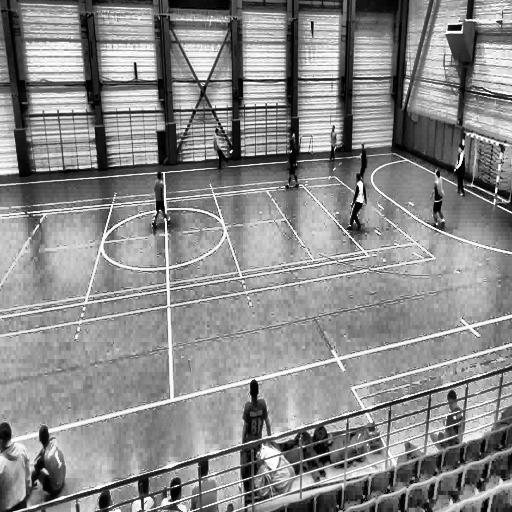ball: (228, 146, 234, 158)
player: (241, 378, 272, 462), (345, 171, 365, 232), (153, 169, 169, 228), (431, 170, 445, 230), (285, 129, 299, 188), (454, 142, 467, 196), (356, 138, 369, 179), (214, 128, 225, 170), (329, 125, 337, 161)
